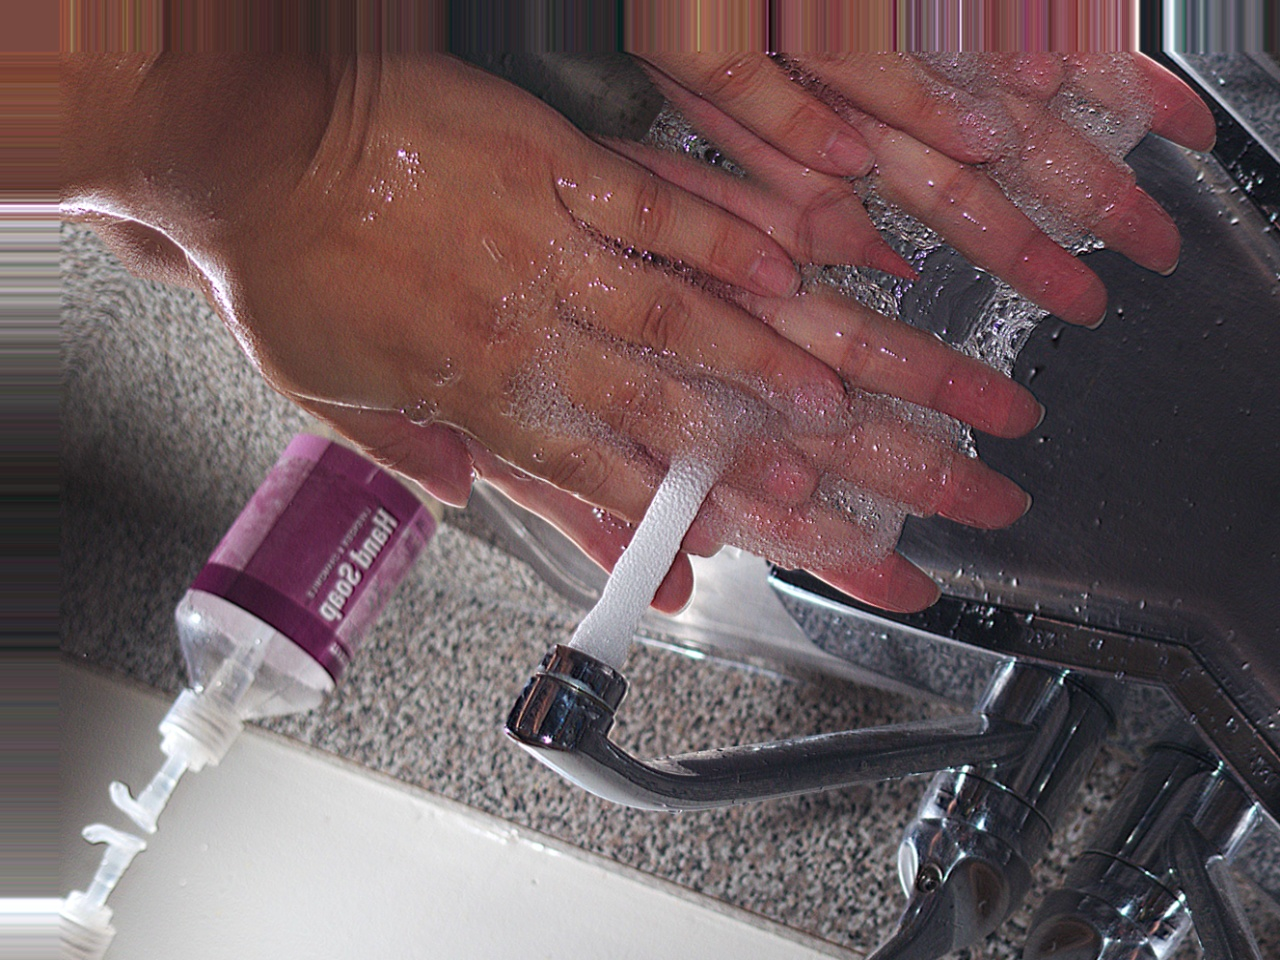washing hand: (115, 4, 1143, 959)
